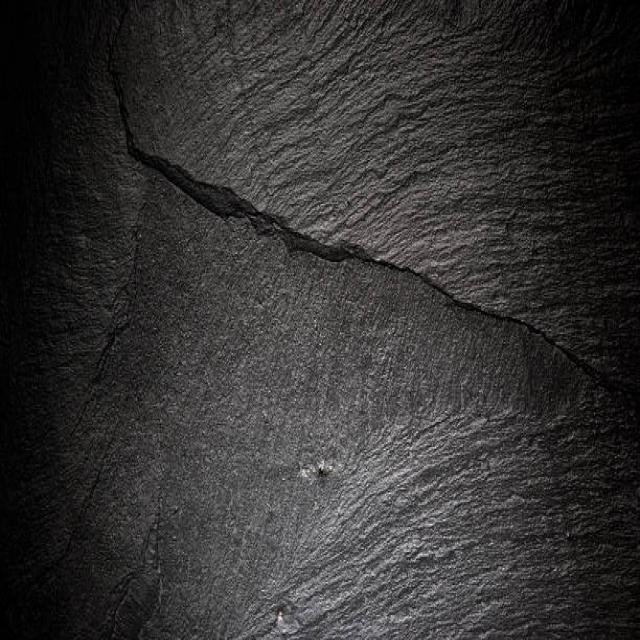Sedimentary: (5, 3, 640, 639)
